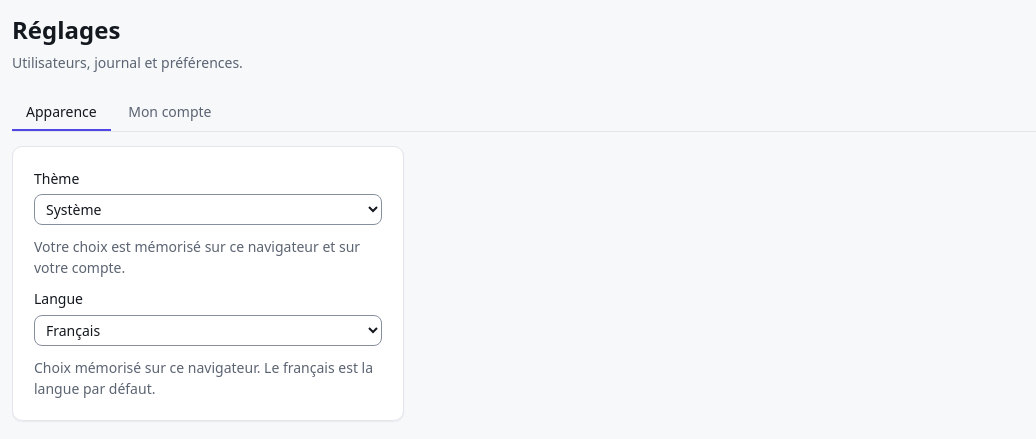
Test: réglages généraux › un compte SSO n'a pas de formulaire de changement de mot de passe
Click the tab "Mon compte".
click(170, 112)  # box x1=114 y1=94 x2=226 y2=130
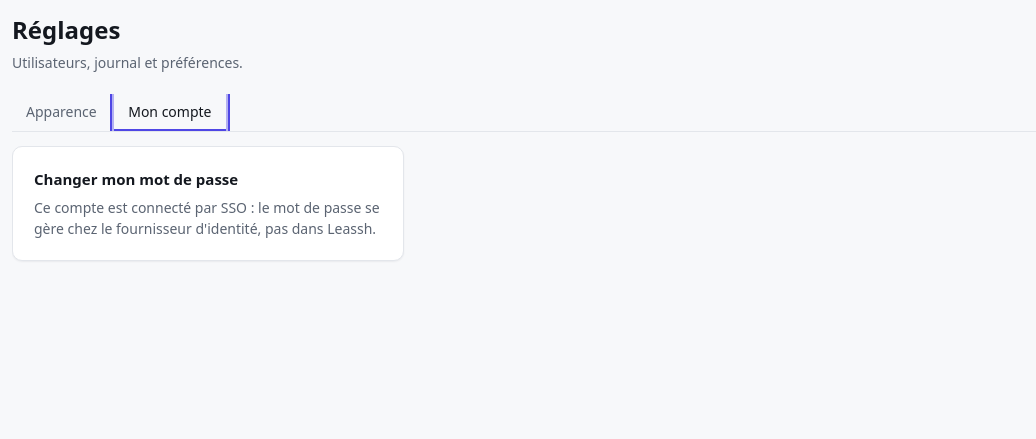
Result: the text "connecté par SSO" is shown at x1=34 y1=198 x2=380 y2=238
